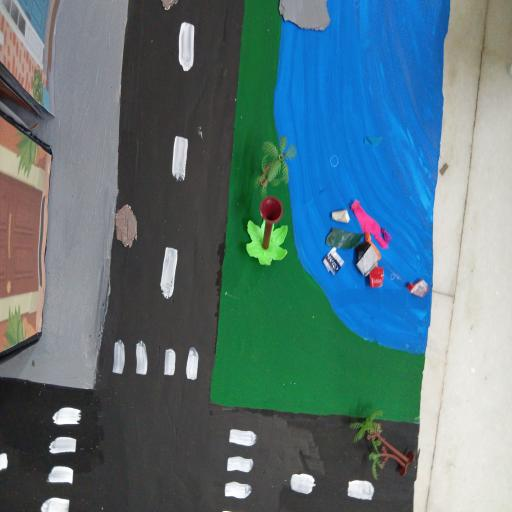encroachment: (281, 0, 333, 33)
fallen trees: (351, 403, 419, 488), (244, 198, 292, 269)
porthole: (112, 200, 140, 256), (157, 0, 183, 11)
trash: (322, 197, 430, 301)
